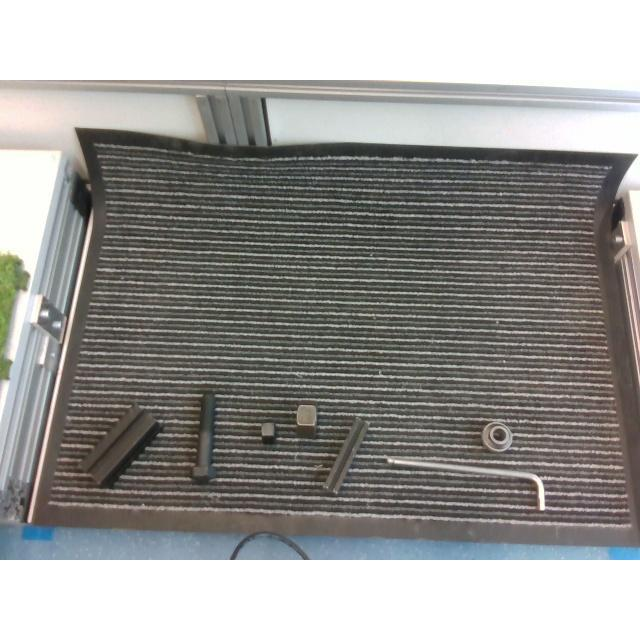AllenKey: (385, 455, 547, 513)
Bearing2: (481, 421, 513, 455)
F20_20_B: (321, 416, 371, 496)
M20: (260, 422, 276, 444)
M20_100: (192, 392, 220, 481)
M30: (294, 400, 318, 440)
S40_40_B: (80, 405, 164, 487)
